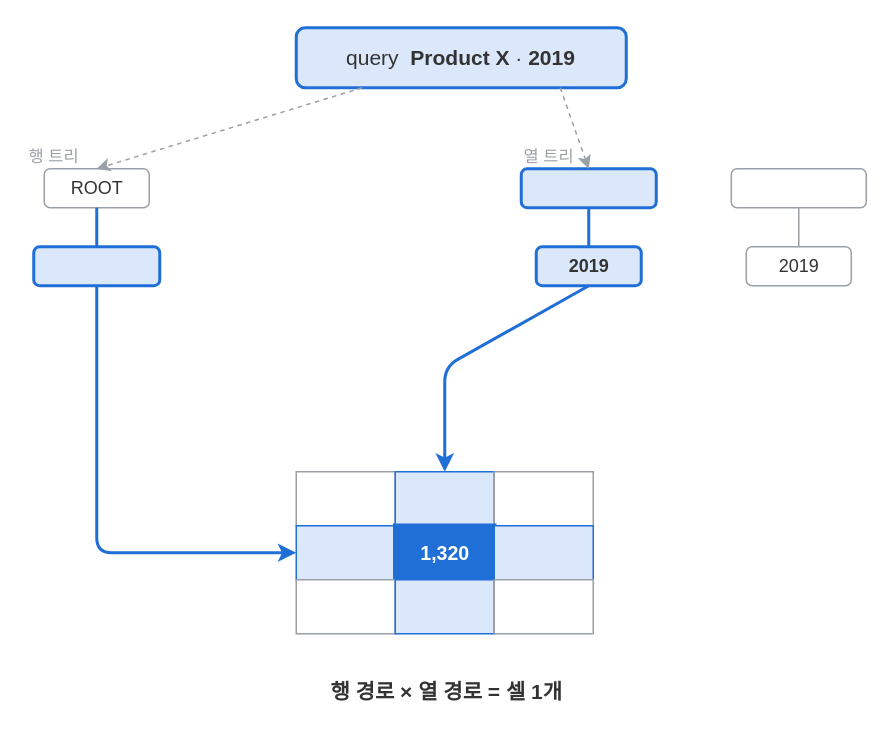
This 893x731 diagram has some shape labels left out. The centre of each missing label's shape, as x and y in pixels:
"Americas" goes at (x=588, y=187).
"Europe" goes at (x=798, y=187).
"Product X" goes at (x=96, y=265).
